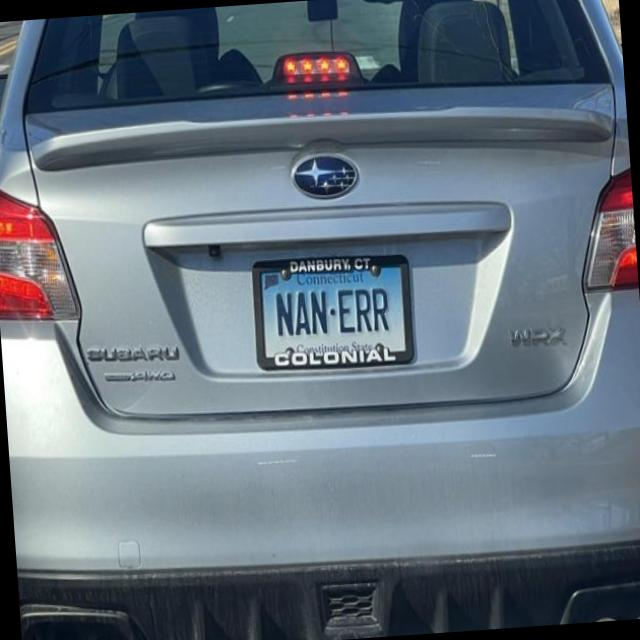LicensePlate: (251, 253, 415, 369)
